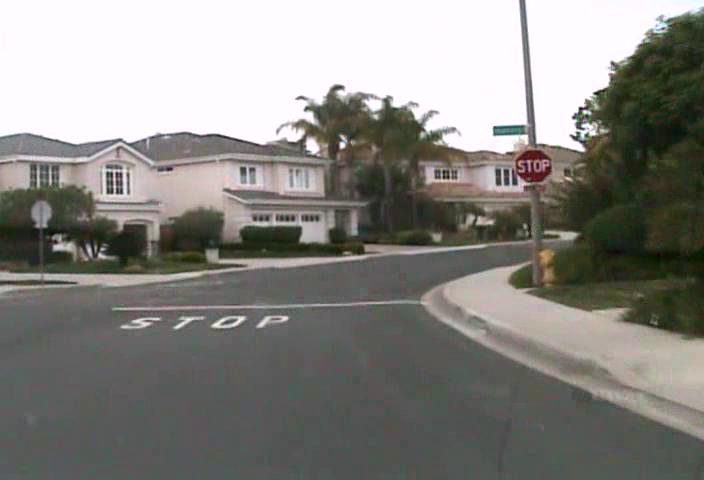stop: (513, 148, 553, 184)
